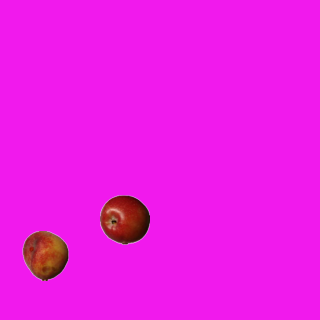Apple Braeburn: (99, 194, 149, 244)
Peach: (20, 230, 70, 280)
